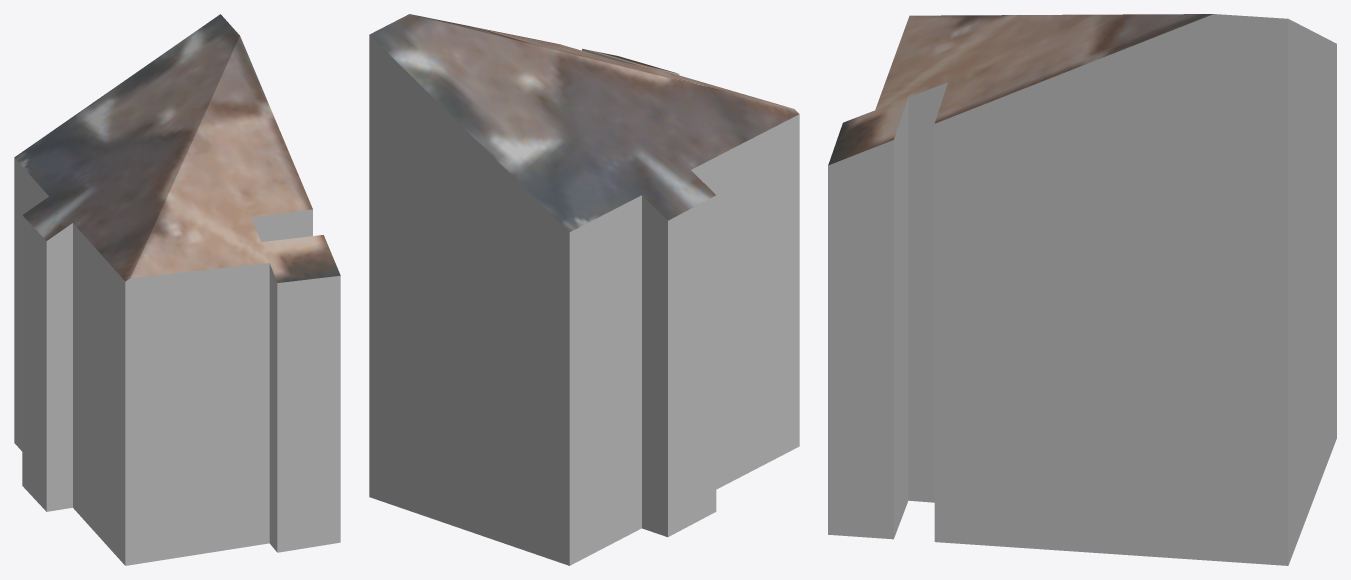
File: DEBW_0010007TxbG.gltf
3 views of the same model, side by side, from view 1: azimuth 30°, elevation 25°; view 2: azimuth 150°, elevation 25°; view 3: azimuth 270°, elevation 25° (orthographic). The views are drawn at different scales.
Parts seen in each view (by area): view 1: Z_UP; view 2: Z_UP; view 3: Z_UP.
Part boxes in pixels (<box>): Z_UP: <box>14,14,340,565</box>; Z_UP: <box>369,14,799,565</box>; Z_UP: <box>828,14,1336,565</box>.
Bounding box in the file's own units: 12.64 × 20.29 × 17.1.
2 materials, 1 textured.
